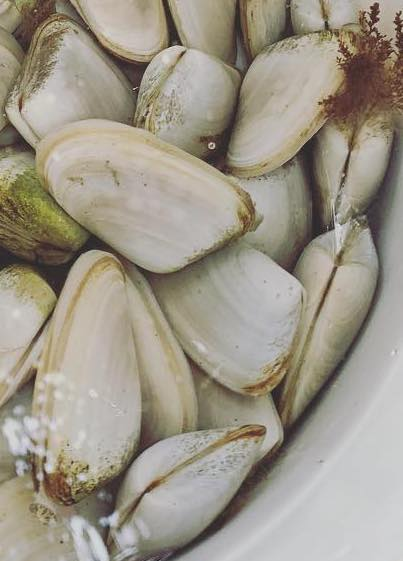tuatua: (31, 115, 255, 280), (28, 248, 144, 501), (157, 239, 309, 396), (284, 213, 382, 431), (226, 22, 358, 183), (108, 424, 266, 547), (8, 13, 136, 149), (126, 38, 244, 156), (1, 146, 95, 268), (314, 113, 395, 222)
